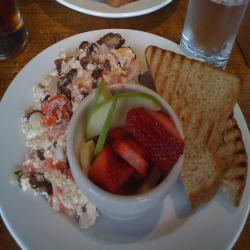bread: (149, 44, 250, 203)
